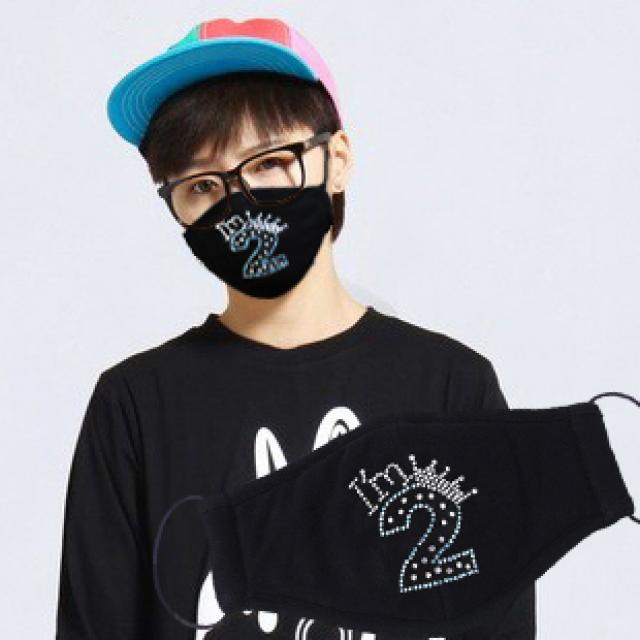mask: (165, 119, 326, 294)
